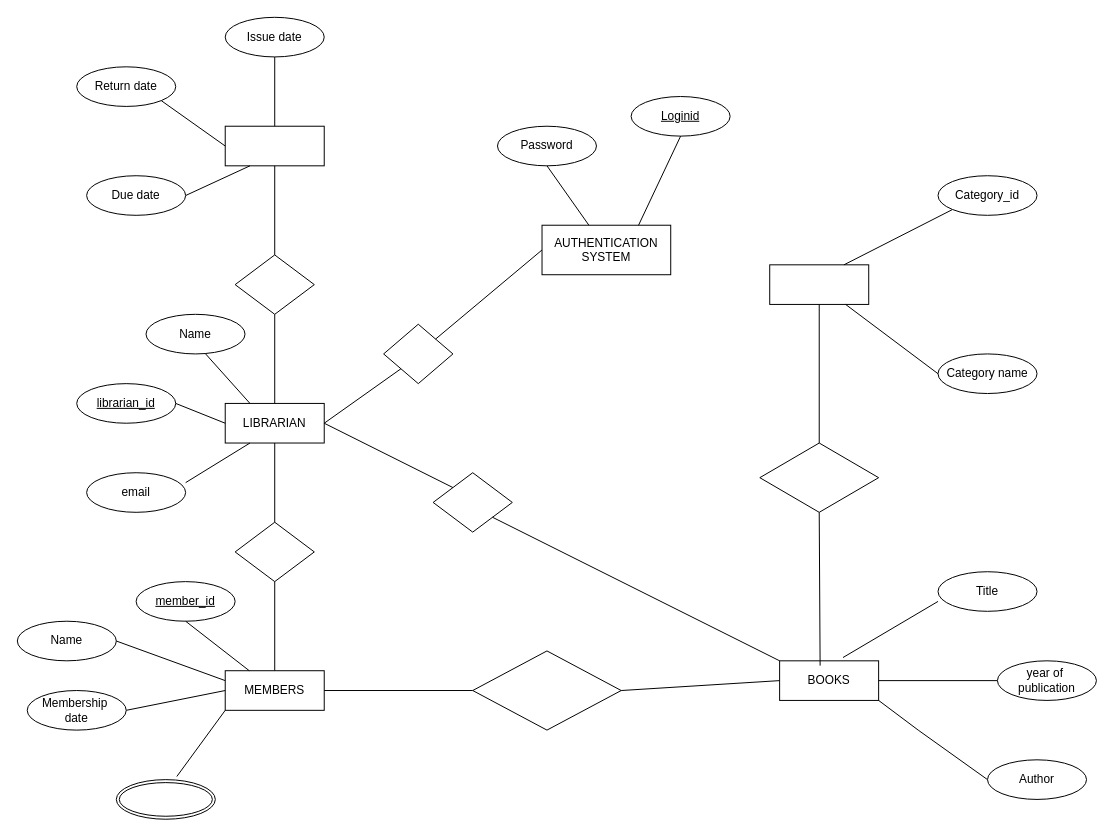
Image size: 1114x837. Some labels were removed from this diagram. Here are the shapes that lost their labels. From the top down, the centre of each, then its label:
pixel 274 145: REPORTS
pixel 274 284: MANAGES
pixel 819 284: CATEGORY
pixel 418 353: LOGIN
pixel 819 477: BELONGS TO
pixel 472 502: MAINTAIN
pixel 274 551: KEEP TRACKS
pixel 546 690: HAS
pixel 165 799: Phone no.
